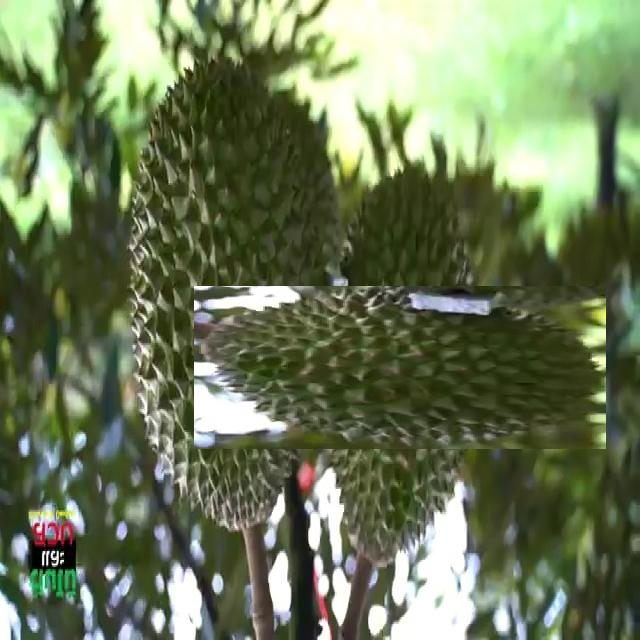durian: (126, 49, 337, 531), (256, 224, 544, 512)
